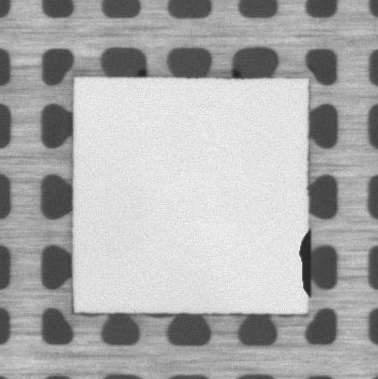DIE_BROKEN: (297, 229, 313, 302)
